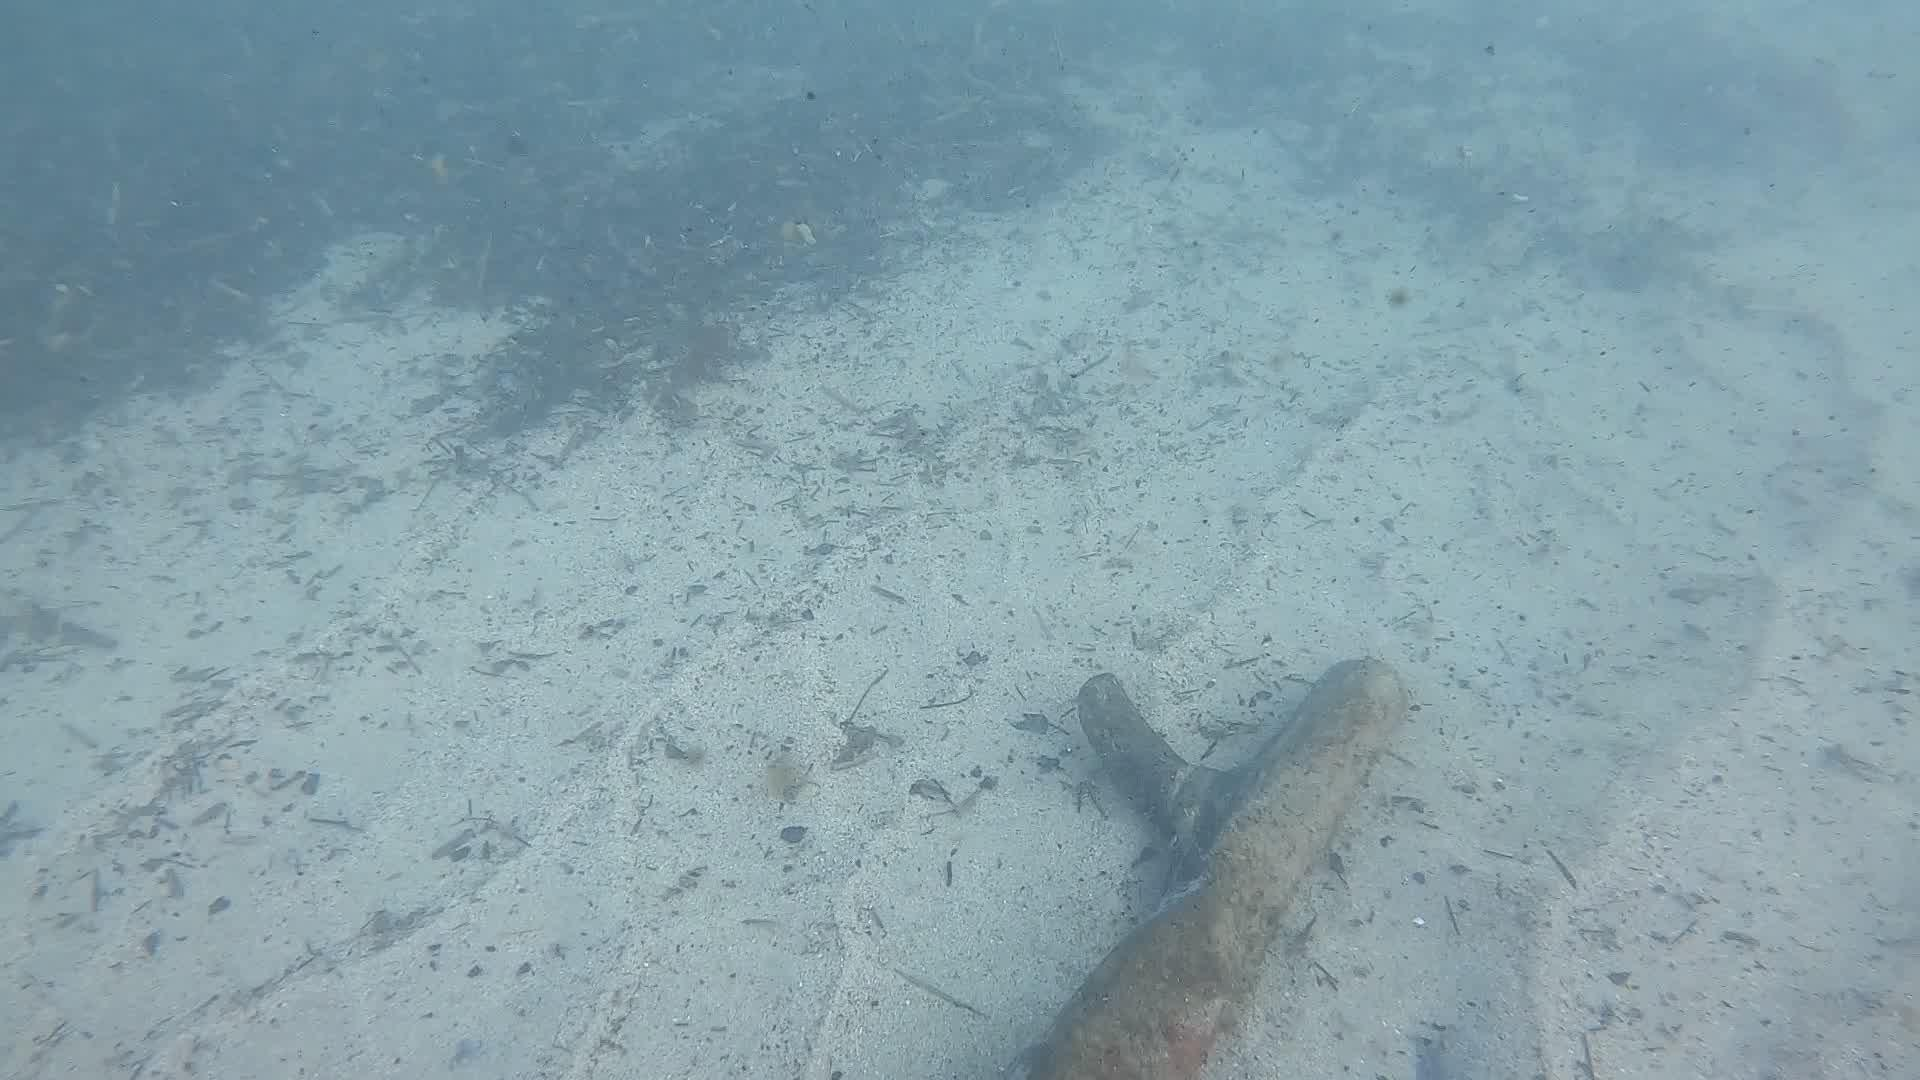wood: (1007, 658, 1404, 1080)
